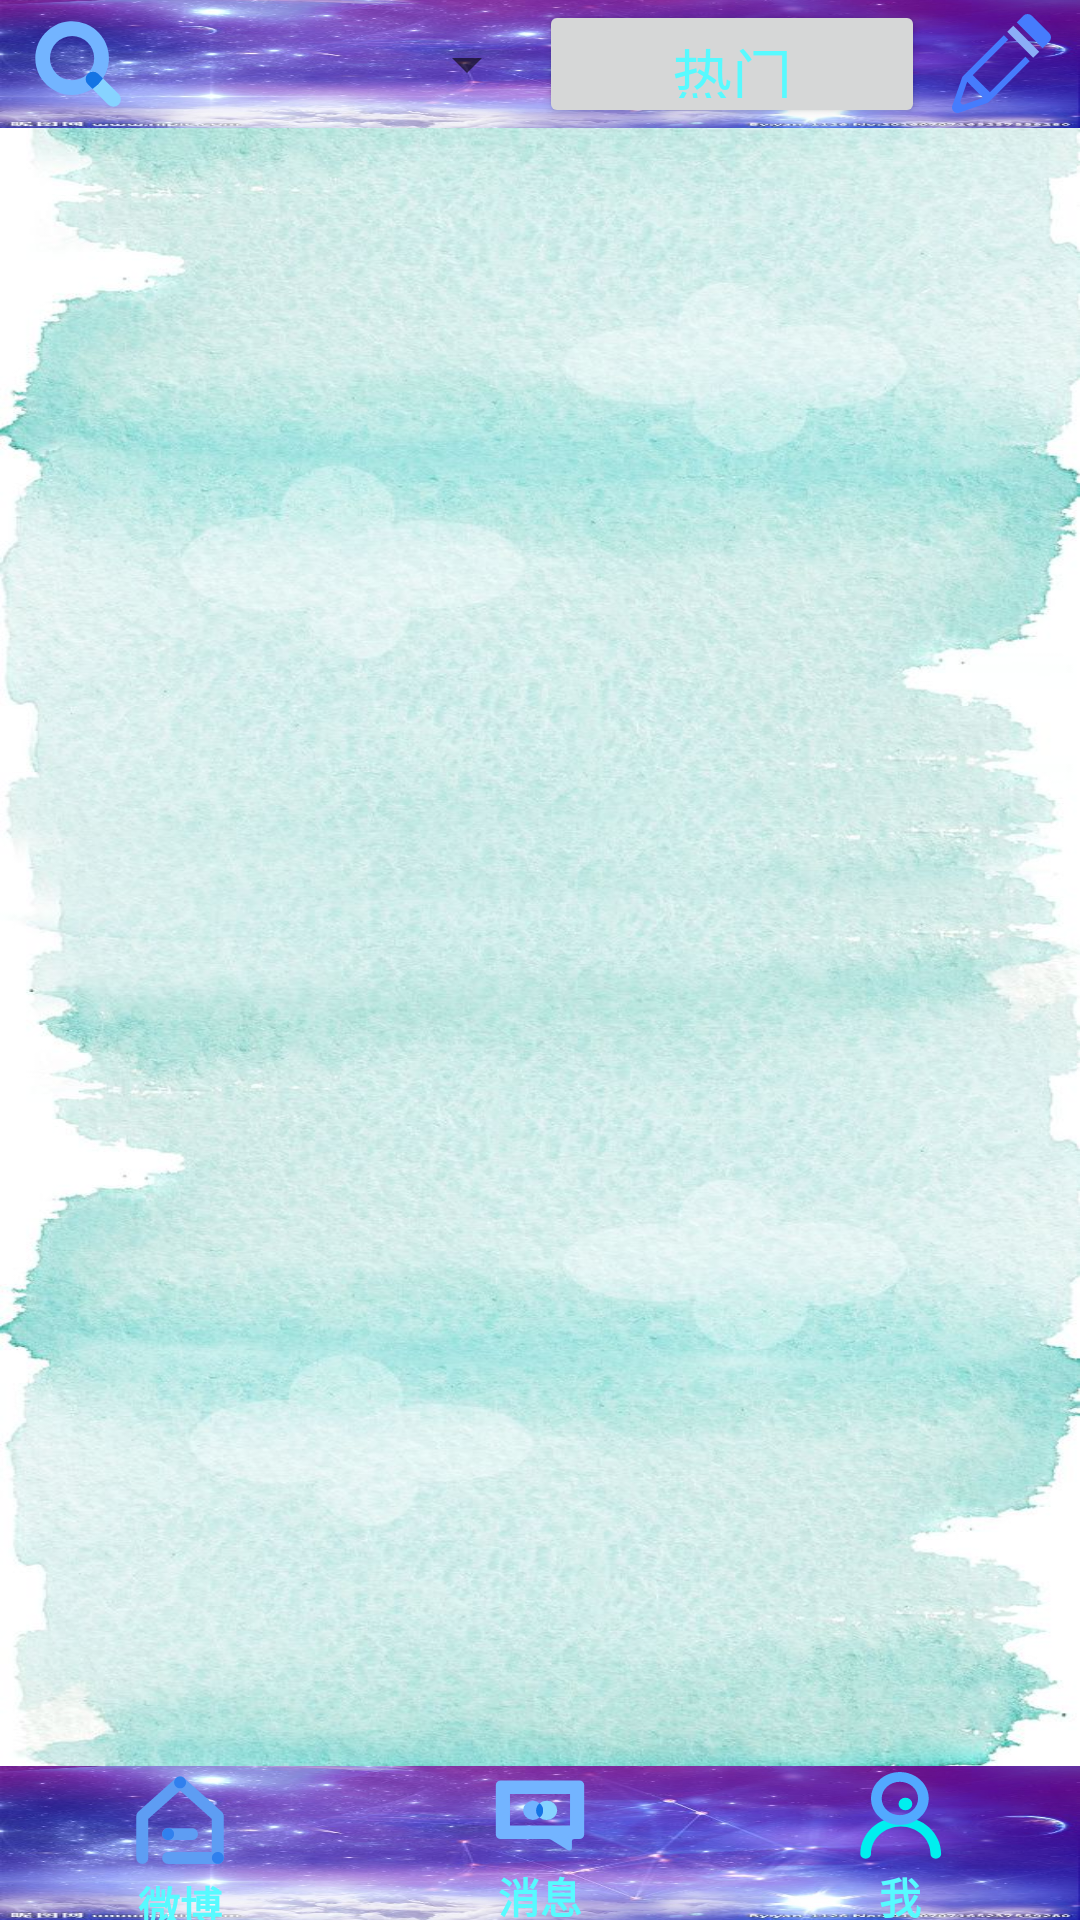

Named icons in this screenshot (1080 x 1920) and their centers, [x,y]:
main: [180,1820]
search: [77,64]
write: [1001,63]
